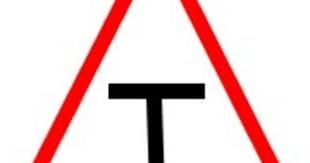fork_road: (22, 0, 288, 161)
